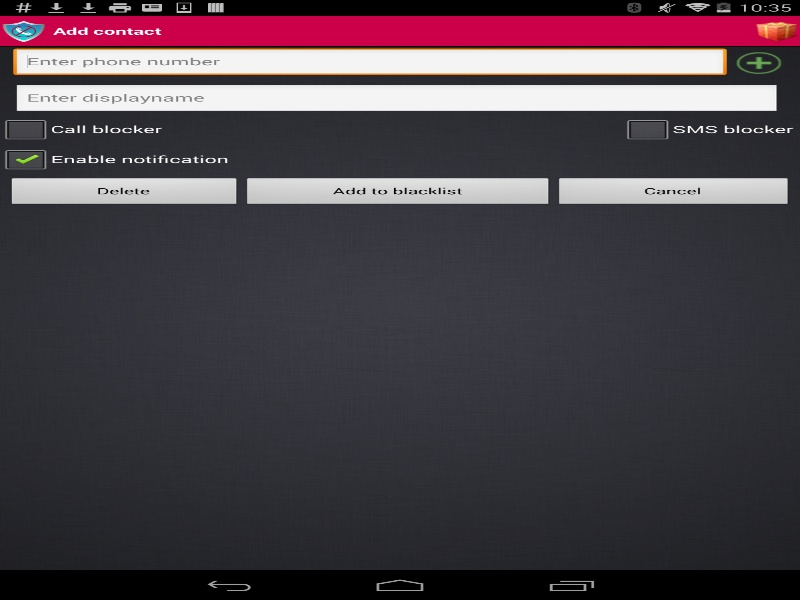Button: (242, 177, 554, 207), (554, 177, 793, 207), (6, 177, 242, 207)
Input: (13, 84, 780, 114), (13, 48, 726, 78)
